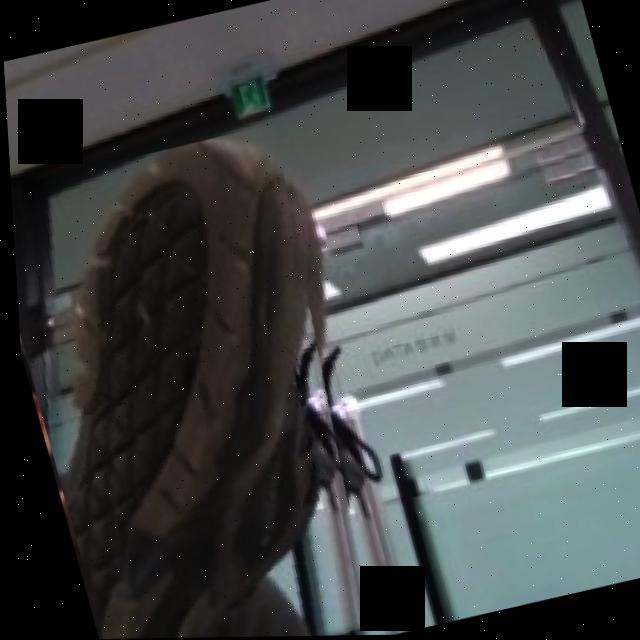shoe: (6, 124, 404, 640)
